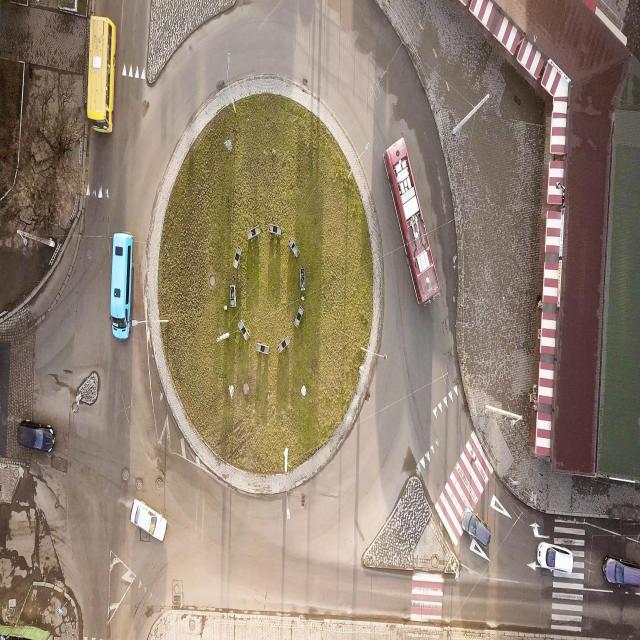Bus: (383, 135, 441, 305), (86, 10, 117, 144), (108, 229, 136, 345)
Car: (129, 499, 168, 543), (536, 541, 574, 578), (461, 507, 492, 551), (16, 423, 56, 456), (601, 557, 640, 589)
